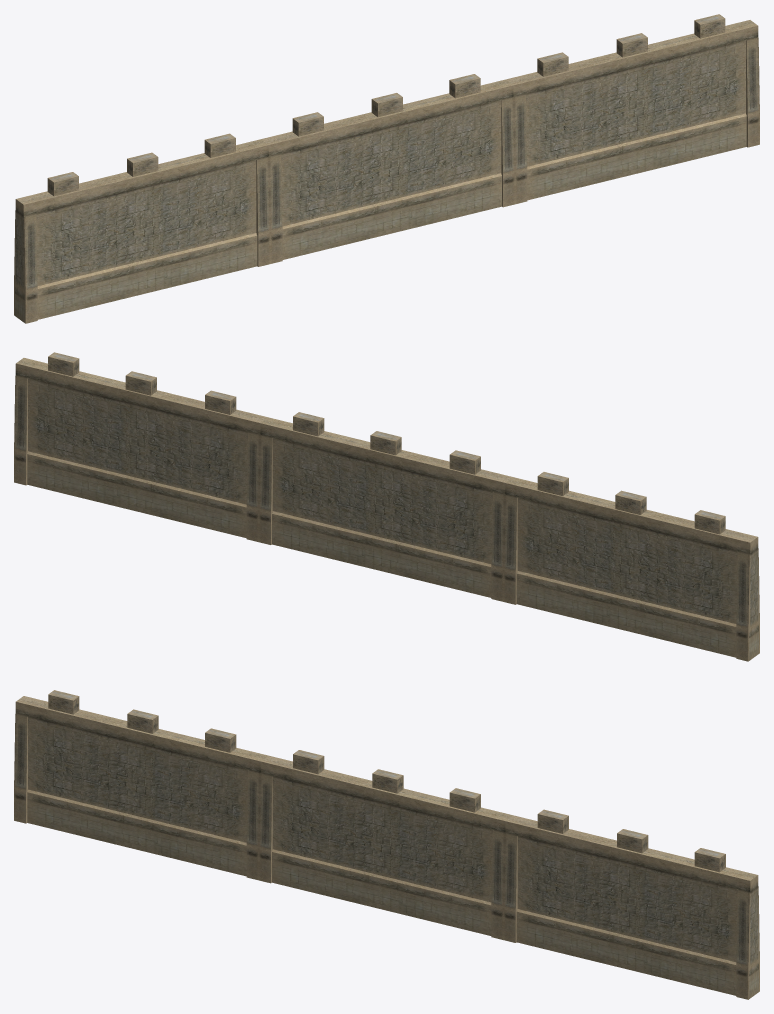
The model's file is desert-bigdam-04.fbx.
3 views of the same model, one above another, from view 1: azimuth 30°, elevation 25°; view 2: azimuth 150°, elevation 25°; view 3: azimuth 330°, elevation 25° (orthographic).
Visible parts, largest first — view 1: desert-bigdam-01; view 2: desert-bigdam-01; view 3: desert-bigdam-01.
Boxes of the visible parts, x1,y1,x2,y2 form: desert-bigdam-01: (14,14,759,323); desert-bigdam-01: (14,352,759,661); desert-bigdam-01: (14,690,759,999).
Size of the model in its own units: 30.02 by 5.14 by 0.8224.
